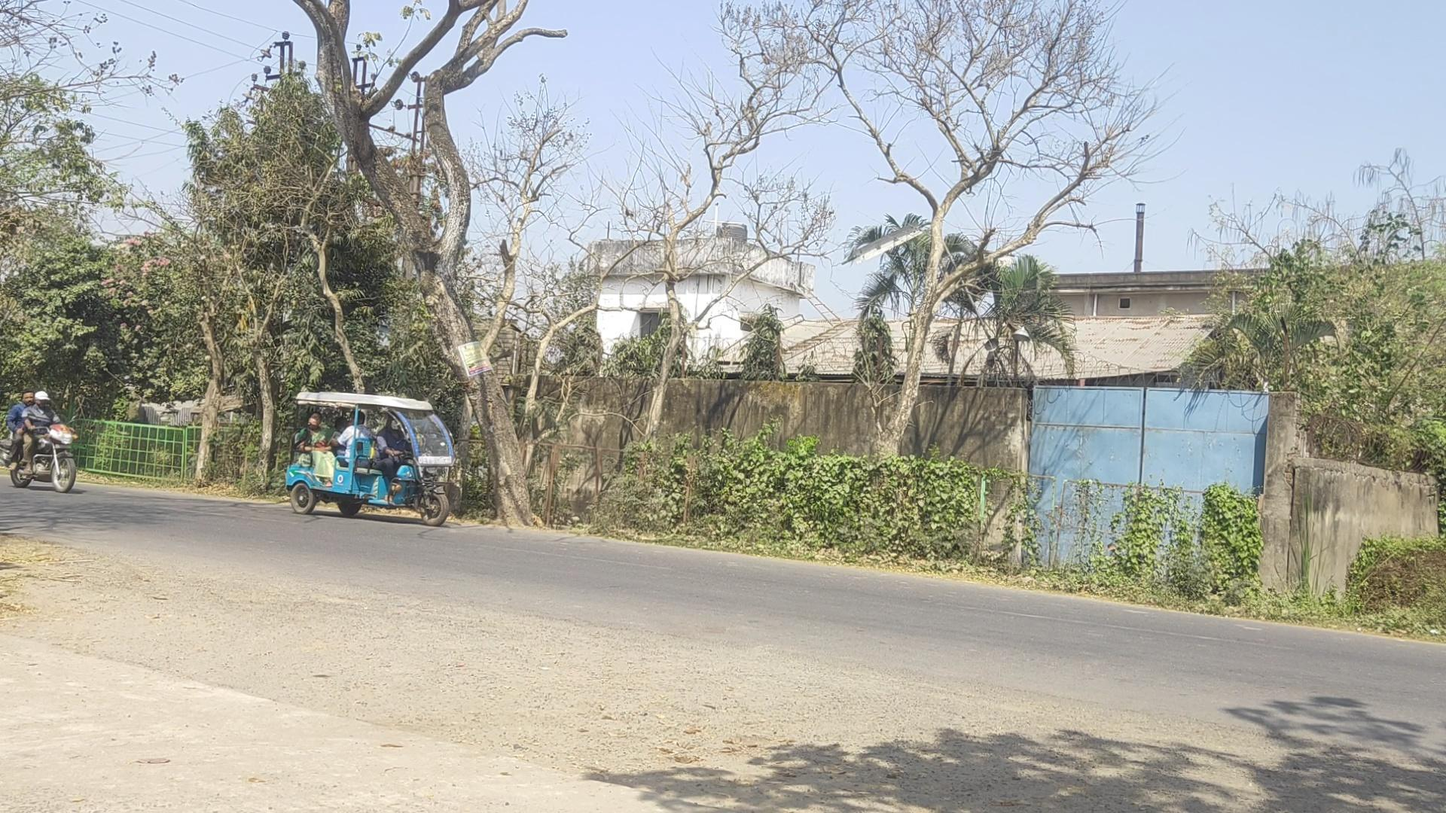Auto: (285, 391, 456, 525)
bike: (1, 390, 78, 493)
